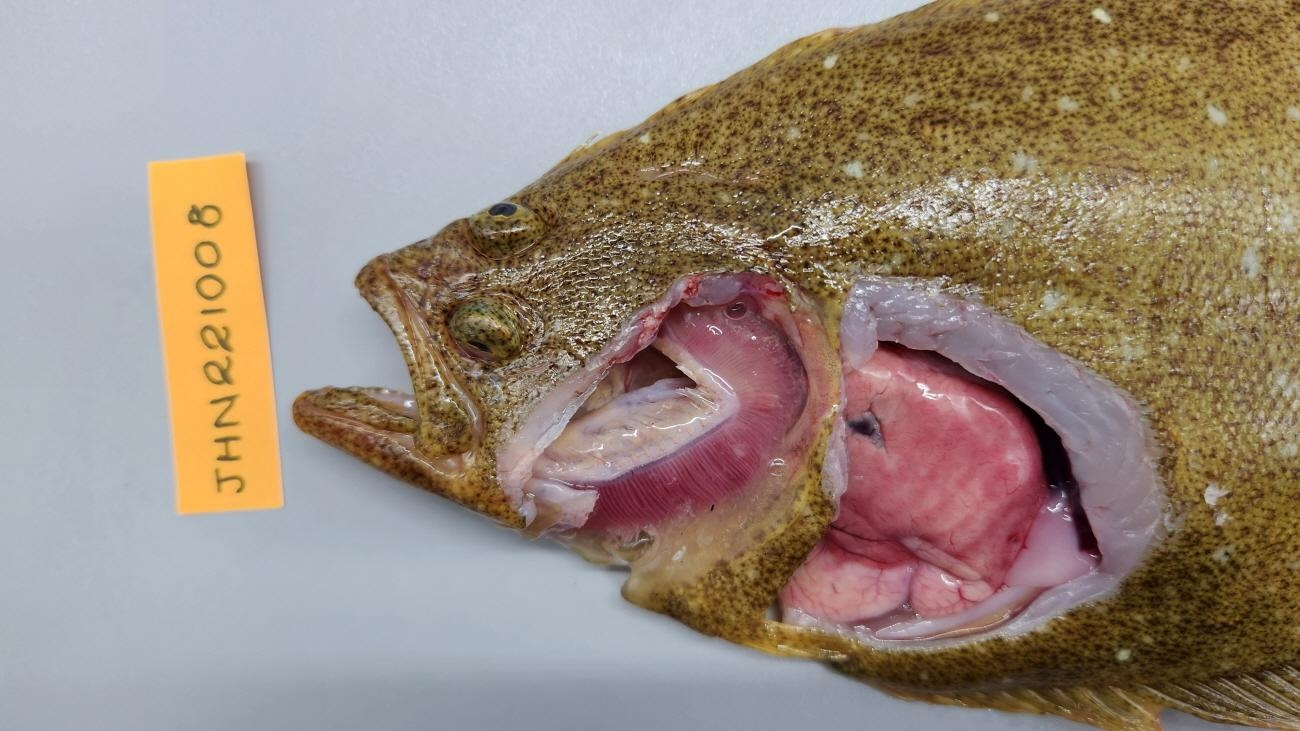POGIN: (564, 301, 807, 537)
POLIN: (830, 346, 1044, 586)
